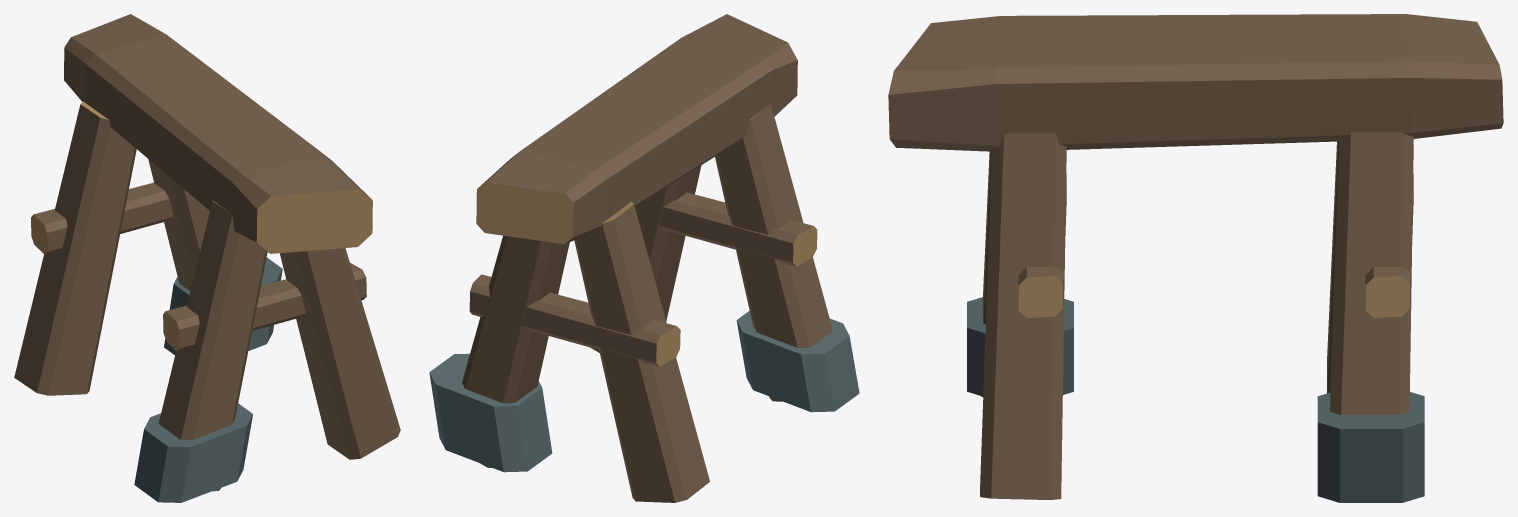
Rendered from east-bank-repair-trestle.glb.
3 views of the same model, side by side, from view 1: azimuth 30°, elevation 25°; view 2: azimuth 150°, elevation 25°; view 3: azimuth 270°, elevation 25° (orthographic). The views are drawn at different scales.
Parts seen in each view (by area): view 1: North west splayed foot; view 2: North west splayed foot; view 3: North west splayed foot.
Part boxes in pixels (x1,y1,x2,y2): North west splayed foot: [14, 14, 400, 502]; North west splayed foot: [429, 14, 859, 502]; North west splayed foot: [888, 14, 1503, 502].
Bounding box in the file's own units: 1.06 × 1.24 × 1.67.
